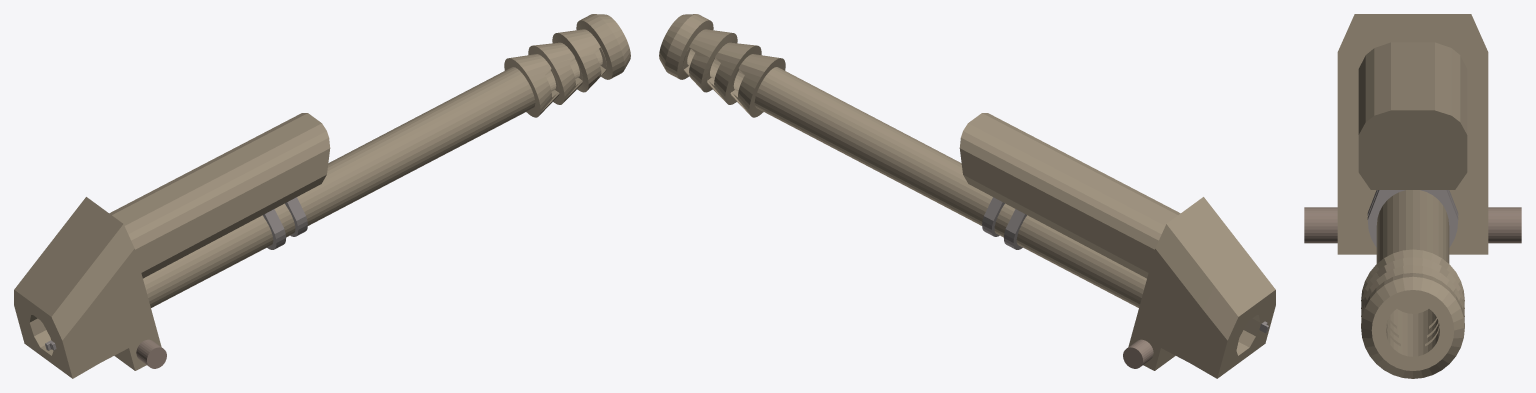
The model's file is ArtilleryCannon-col.glb.
The picture shows the model from 3 angles, left to right: view 1: azimuth 30°, elevation 25°; view 2: azimuth 150°, elevation 25°; view 3: azimuth 270°, elevation 25°; orthographic projection. The views are drawn at different scales.
Parts seen in each view (by area): view 1: ArtilleryCannon-col; view 2: ArtilleryCannon-col; view 3: ArtilleryCannon-col.
Part boxes in pixels (x1,y1,x2,y2): ArtilleryCannon-col: [14, 14, 630, 378]; ArtilleryCannon-col: [659, 14, 1275, 378]; ArtilleryCannon-col: [1304, 14, 1521, 378].
Bounding box in the file's own units: 5.83 × 2.06 × 1.19.
